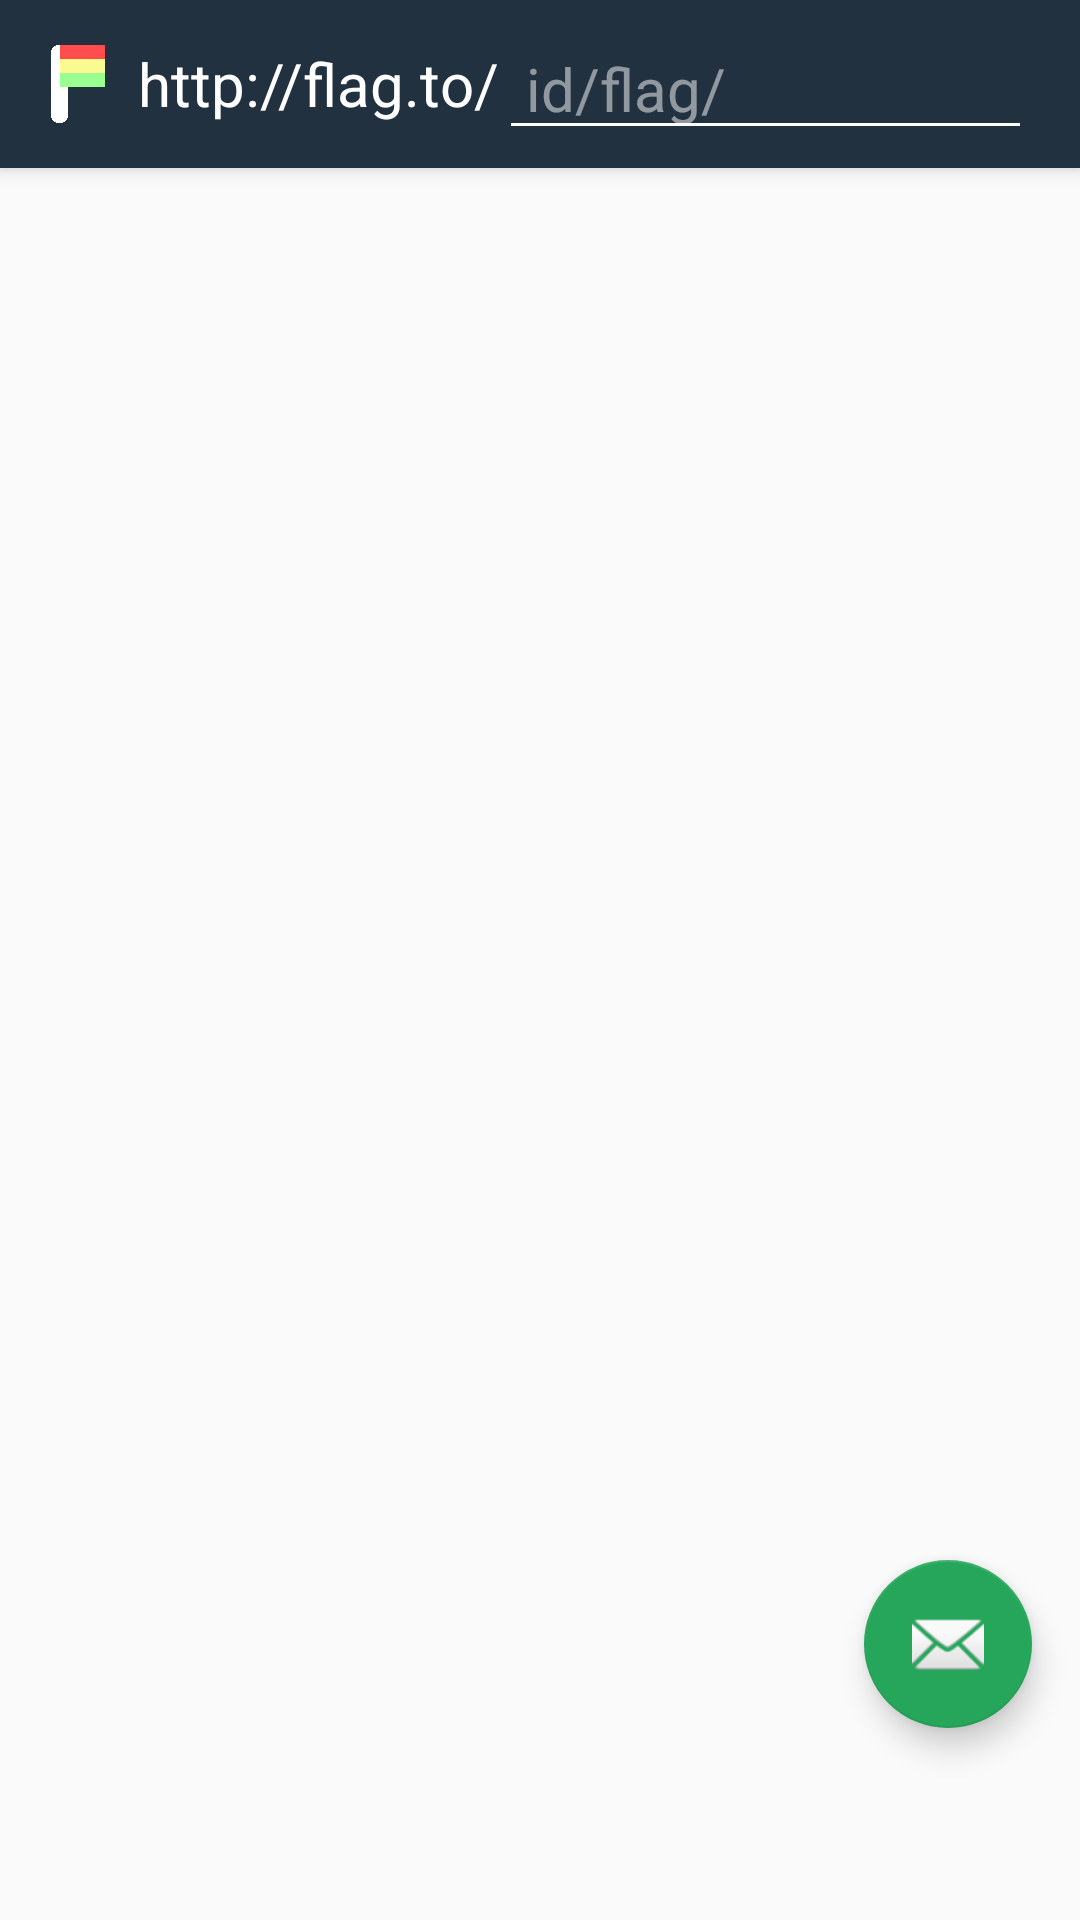

Icons on this 1080w x 1920h Android screen, each with the point to tap as (x=x, y=y):
email: (x=948, y=1644)
